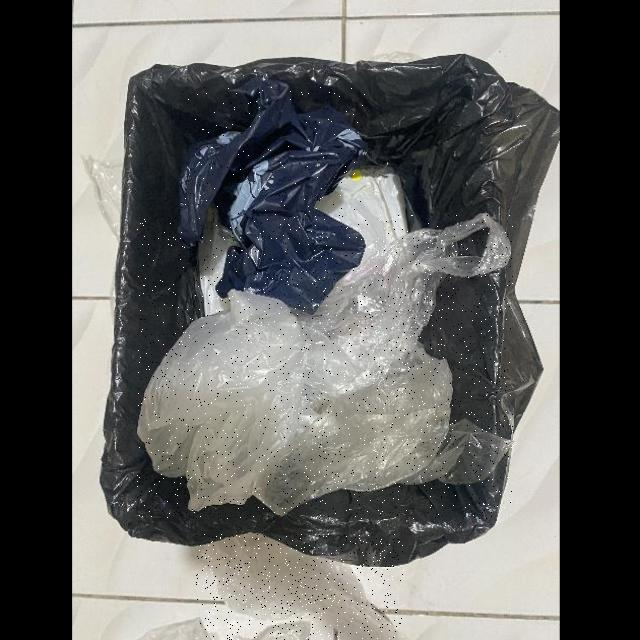plastic: (137, 215, 513, 519), (179, 87, 365, 313), (197, 534, 404, 640)
